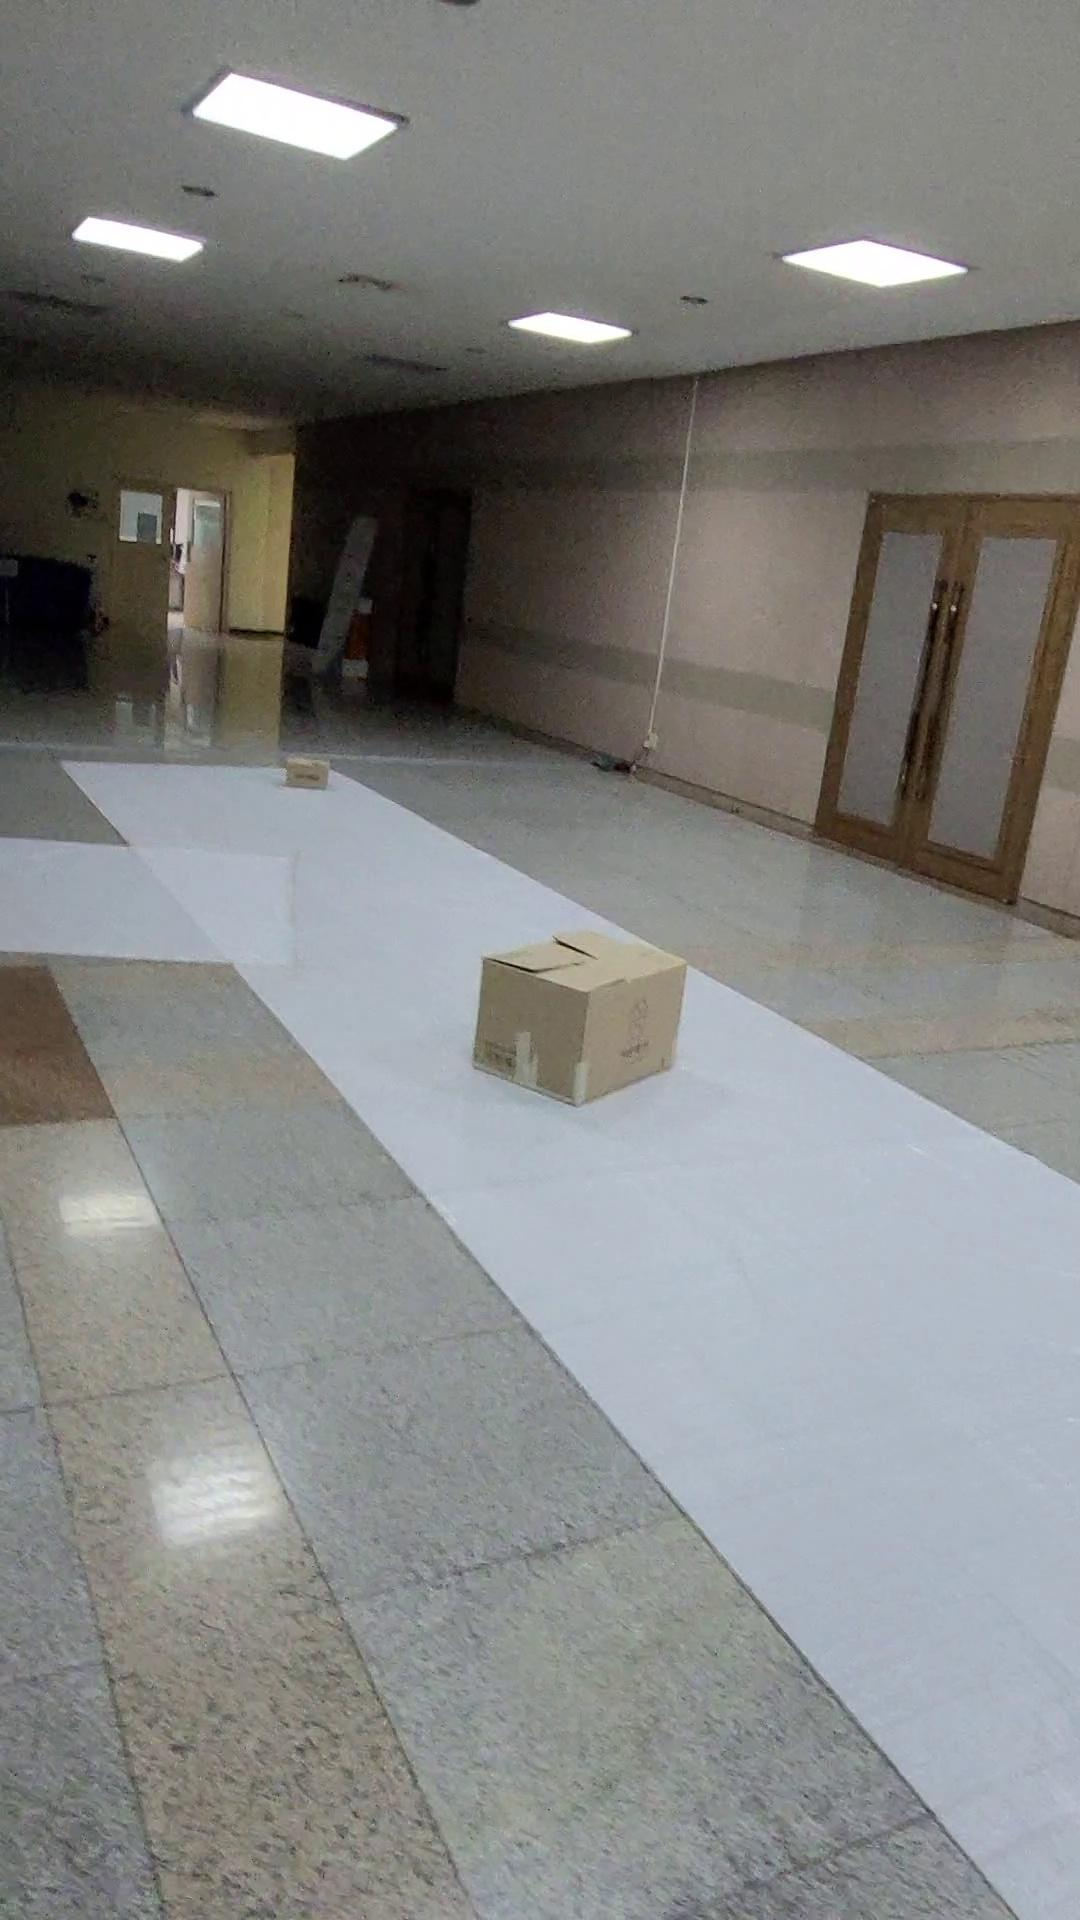Box: (438, 893, 724, 1143), (253, 735, 340, 804)
